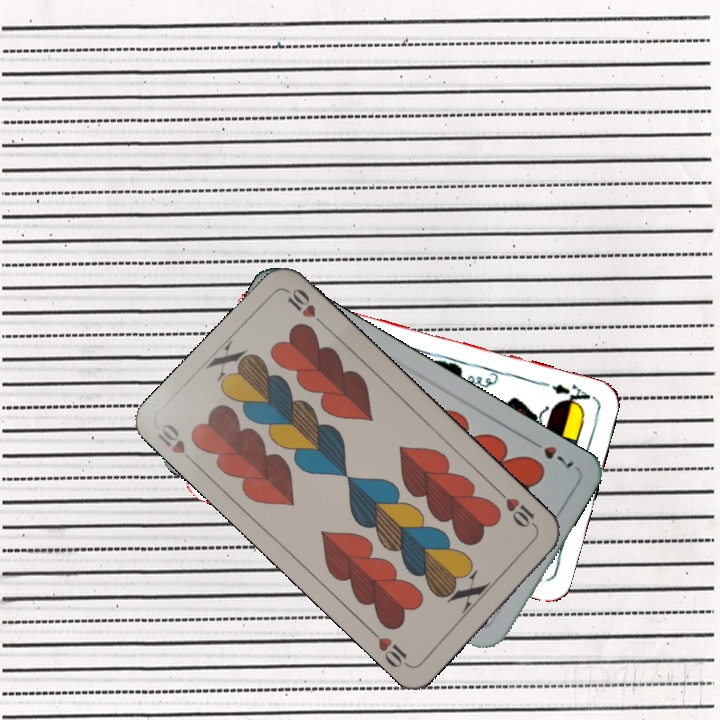EA: (547, 379, 598, 411)
H10: (153, 419, 200, 469), (494, 486, 541, 533)
H7: (525, 435, 577, 471)
